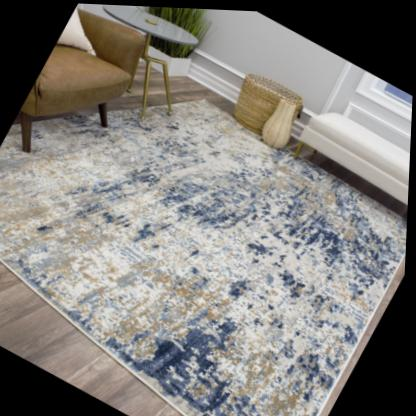Carpet: (0, 96, 409, 416)
